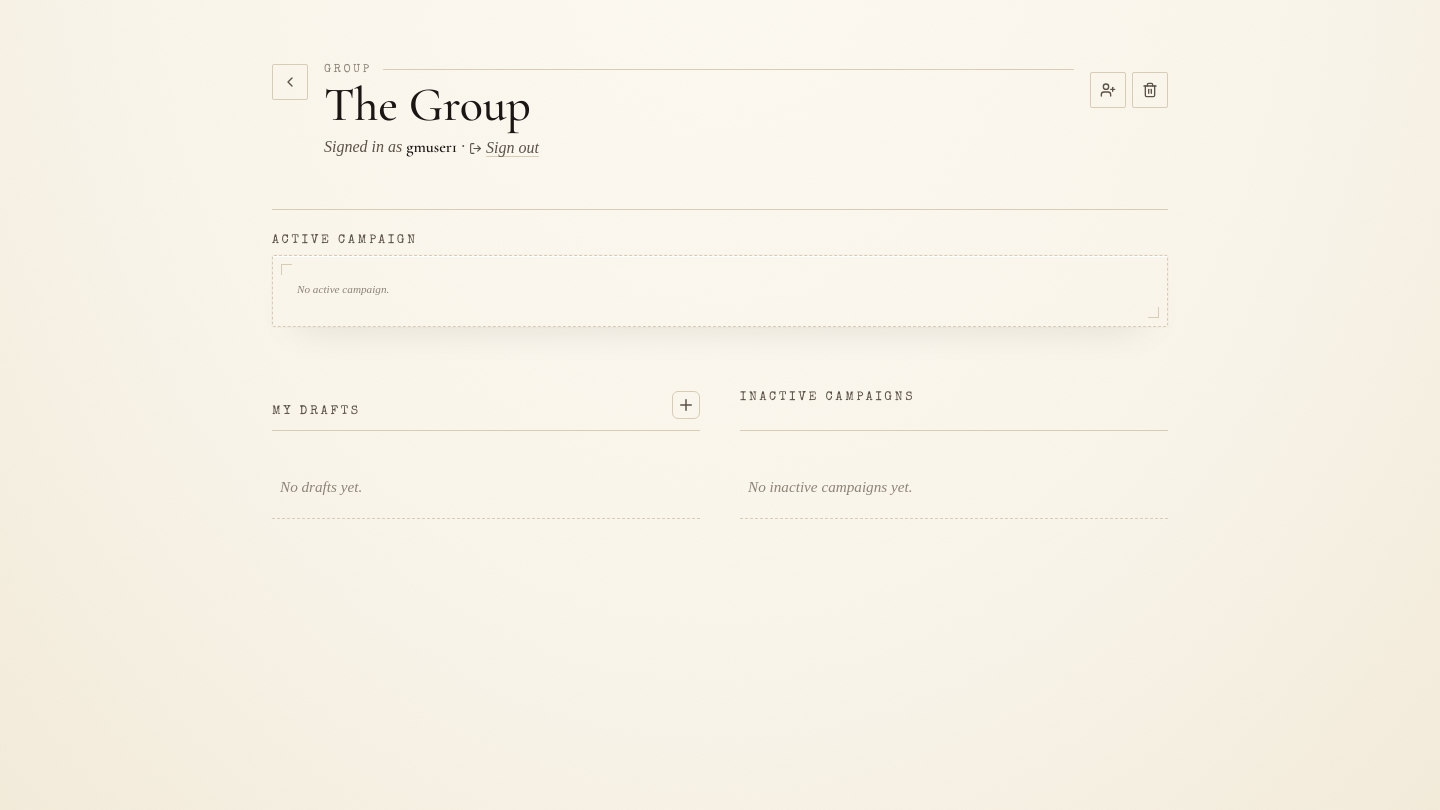
Test case: GroupHome new-campaign picker › offers OSE, VtM and Lubec by their full names, with OSE chosen
Click the button named "Create new draft": (686, 405) [672,391,700,419]
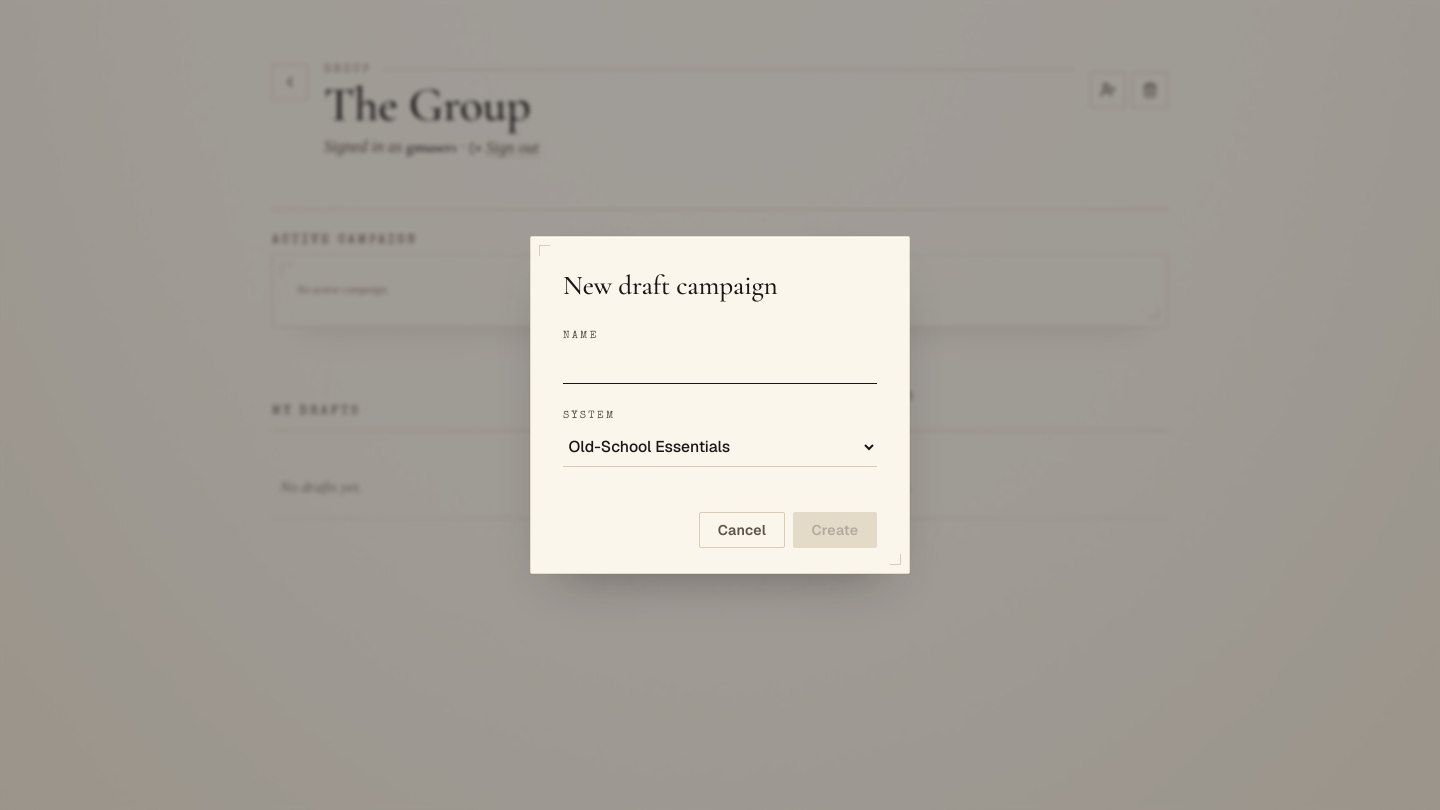
Check: the dropdown shows "Old-School Essentials", box [563,427,877,467]
